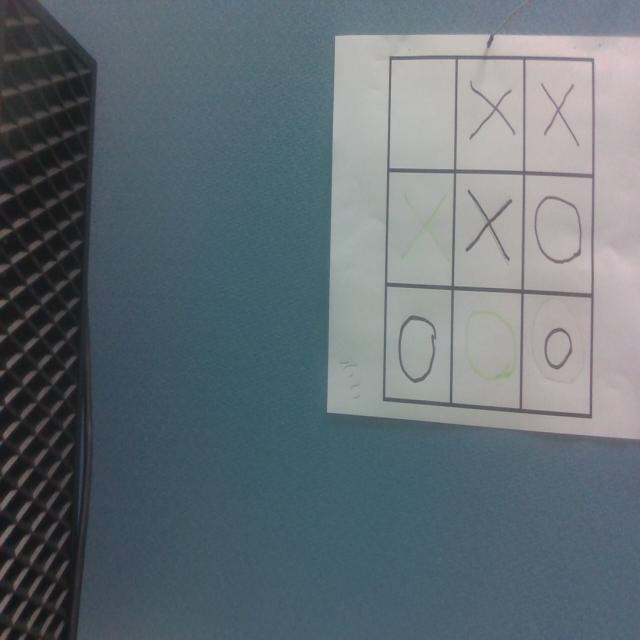null: (391, 58, 455, 173)
o: (465, 309, 518, 381), (533, 193, 583, 264), (397, 314, 436, 382), (543, 326, 572, 370)
table: (385, 44, 592, 419)
x: (397, 174, 450, 264), (466, 190, 511, 265), (470, 83, 515, 142), (541, 81, 579, 149)
